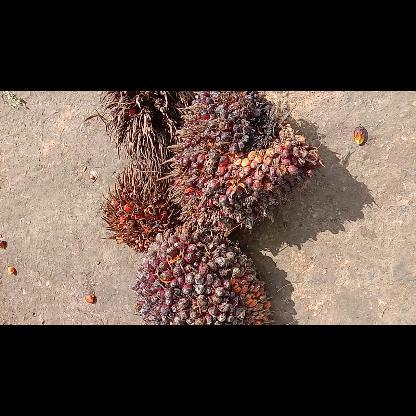Janjang kosong: (88, 91, 197, 189)
Kurang masak: (132, 230, 276, 324)
TBS masak: (155, 92, 327, 235)
Terlalu masak: (96, 164, 181, 254)
